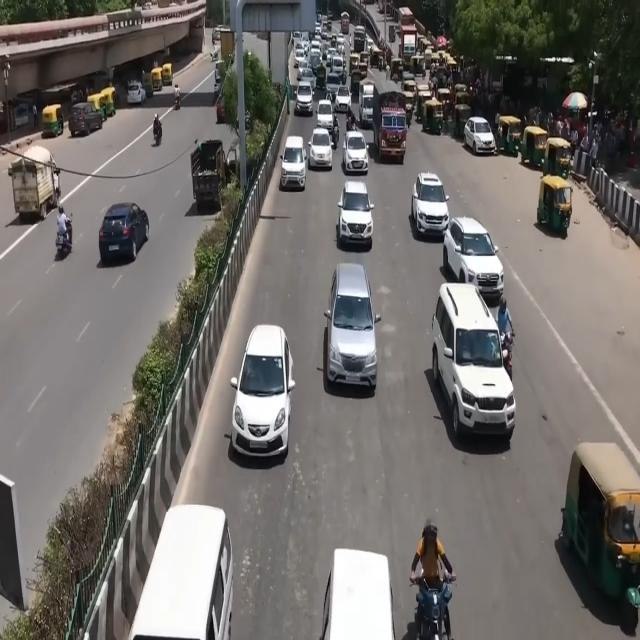auto: (561, 430, 640, 625), (536, 163, 576, 240), (498, 105, 524, 161), (548, 128, 572, 178), (522, 126, 549, 170), (41, 104, 64, 138), (424, 98, 443, 135), (454, 102, 472, 139), (417, 89, 432, 125), (402, 79, 417, 114), (389, 56, 403, 80)
bike-auto: (404, 510, 460, 640), (48, 192, 78, 271), (498, 328, 514, 381), (148, 108, 164, 148), (345, 108, 356, 132), (332, 112, 340, 143)
